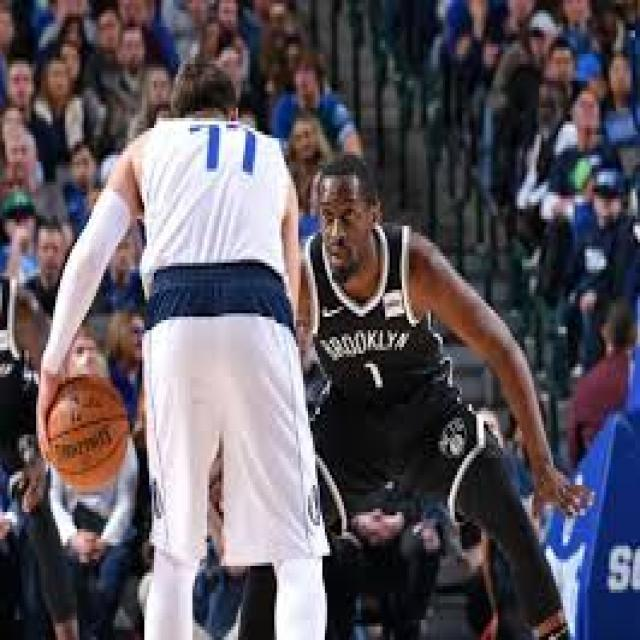rim: (44, 378, 128, 488)
